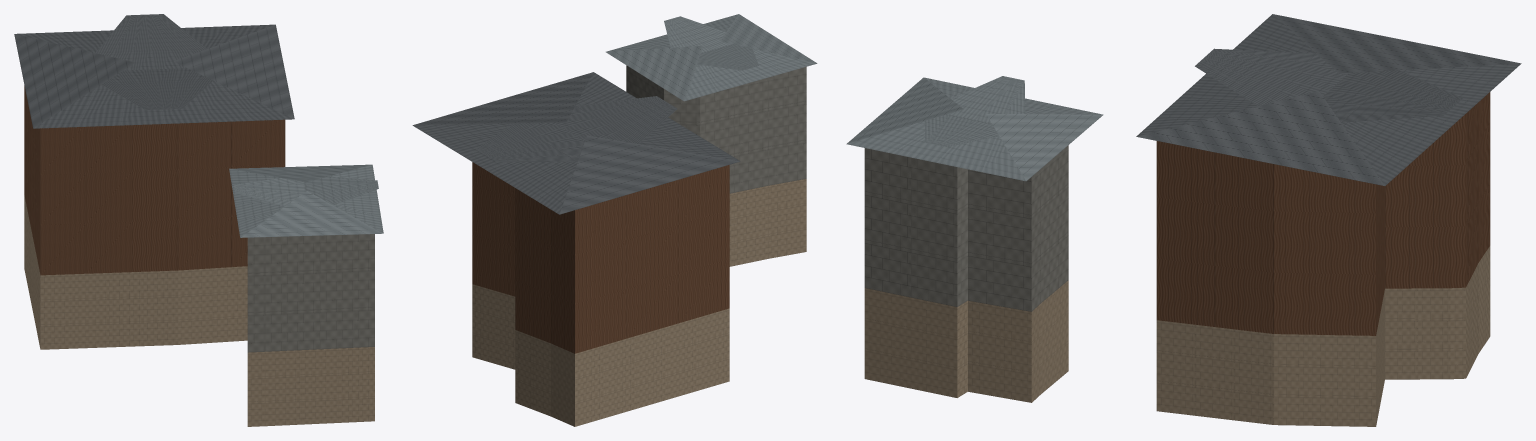
The model's file is bld_c41_-49_463.gltf.
The picture shows the model from 3 angles, left to right: view 1: azimuth 30°, elevation 25°; view 2: azimuth 150°, elevation 25°; view 3: azimuth 270°, elevation 25°; orthographic projection. The views are drawn at different scales.
Visible parts, largest first — view 1: bld_c41_-49_463; view 2: bld_c41_-49_463; view 3: bld_c41_-49_463.
Boxes of the visible parts, box(x1,y1,x2,y2) form: bld_c41_-49_463: box(14, 14, 383, 426); bld_c41_-49_463: box(412, 14, 817, 426); bld_c41_-49_463: box(846, 14, 1521, 426).
Bounding box in the file's own units: 20.69 × 16.4 × 34.29.
5 materials, 5 textured.
